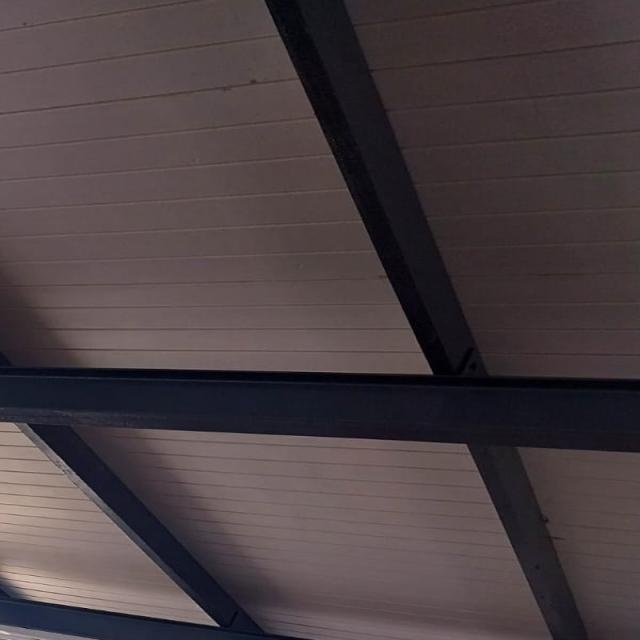fluorescent tube: (0, 613, 237, 640)
